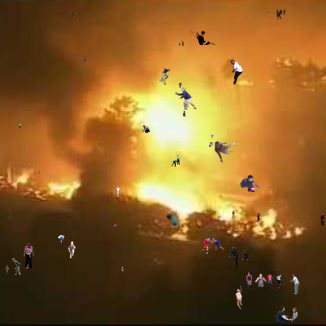Human: (214, 141, 239, 163), (193, 237, 225, 254), (161, 211, 188, 231), (276, 273, 300, 295), (227, 247, 249, 271), (186, 28, 217, 45), (23, 243, 42, 270), (175, 87, 197, 110), (246, 272, 274, 290), (159, 67, 182, 88), (275, 306, 298, 322), (240, 175, 260, 192), (230, 59, 243, 85), (235, 286, 244, 310), (11, 258, 22, 275), (68, 241, 76, 262), (276, 8, 286, 20), (171, 155, 180, 167), (232, 210, 242, 220), (320, 212, 325, 226), (58, 235, 66, 243), (142, 125, 150, 133), (5, 265, 10, 275), (116, 186, 120, 197), (182, 111, 188, 117), (36, 167, 40, 174), (257, 213, 260, 222), (179, 41, 184, 46), (121, 265, 124, 273), (113, 224, 118, 228), (209, 142, 213, 147), (266, 12, 275, 14), (83, 56, 86, 62), (18, 123, 21, 129), (71, 13, 74, 19), (10, 218, 13, 224), (211, 133, 214, 139), (2, 174, 8, 177)
